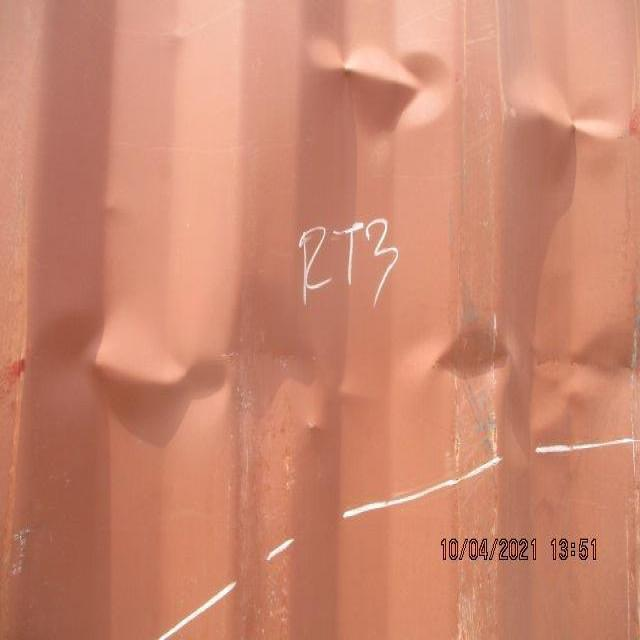dent: (16, 261, 640, 474), (293, 23, 640, 199)
